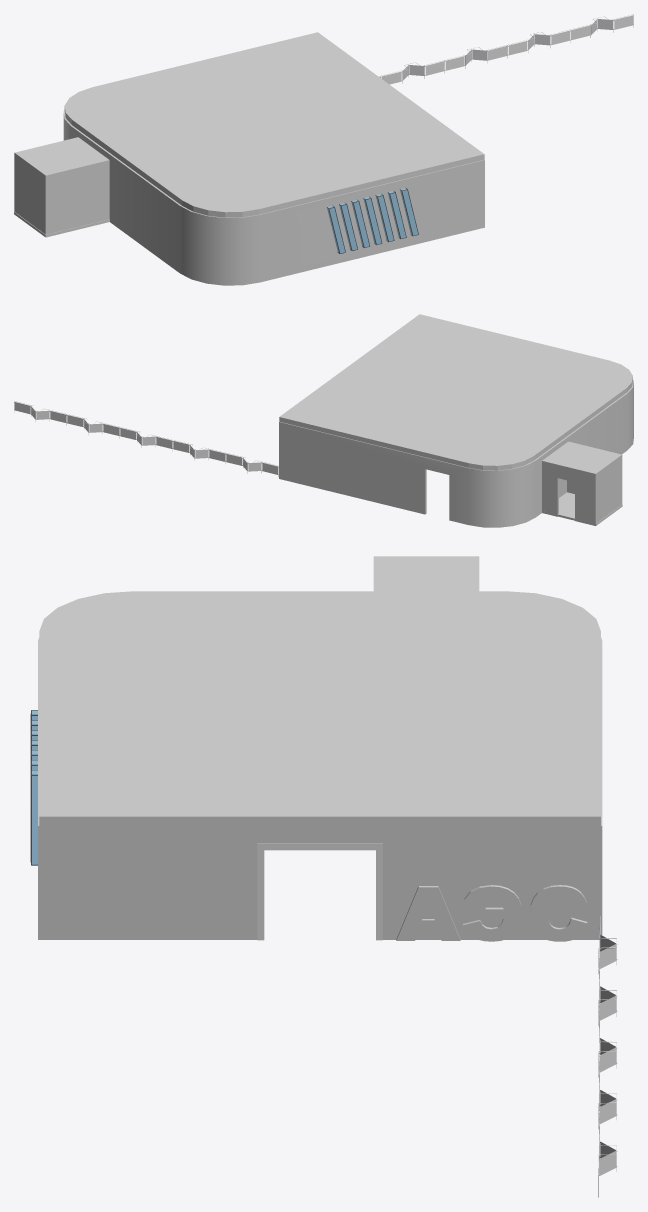
File: Building.fbx
3 views of the same model, one above another, from view 1: azimuth 30°, elevation 25°; view 2: azimuth 150°, elevation 25°; view 3: azimuth 270°, elevation 25° (orthographic). The views are drawn at different scales.
Visible parts, largest first — view 1: Ceiling, Wall, Пристройка, BagaPie_Handrail, Baga_Window_Bool3303603, Крыша пристройки, Baga_Window5623751; view 2: Ceiling, Wall, Пристройка, BagaPie_Handrail, Крыша пристройки, Пол пристройки; view 3: Ceiling, Wall, Text, Крыша пристройки, BagaPie_Handrail, Jamb, Baga_Window_Bool3303603.
Boxes of the visible parts, bbox=[...] form: Ceiling: bbox=[64, 32, 484, 217]; Wall: bbox=[63, 110, 484, 285]; Пристройка: bbox=[14, 155, 109, 237]; BagaPie_Handrail: bbox=[378, 14, 633, 84]; Baga_Window_Bool3303603: bbox=[327, 188, 417, 253]; Крыша пристройки: bbox=[14, 137, 109, 177]; Baga_Window5623751: bbox=[327, 187, 418, 253]; Ceiling: bbox=[279, 314, 632, 470]; Wall: bbox=[279, 379, 633, 527]; Пристройка: bbox=[542, 457, 622, 525]; BagaPie_Handrail: bbox=[14, 401, 278, 476]; Крыша пристройки: bbox=[542, 441, 622, 475]; Пол пристройки: bbox=[542, 492, 622, 525]; Ceiling: bbox=[39, 591, 600, 825]; Wall: bbox=[38, 638, 602, 939]; Text: bbox=[396, 885, 587, 941]; Крыша пристройки: bbox=[373, 556, 479, 591]; BagaPie_Handrail: bbox=[598, 916, 617, 1197]; Jamb: bbox=[257, 843, 382, 940]; Baga_Window_Bool3303603: bbox=[32, 710, 37, 864].
Size of the model in its own units: 4564 by 488 by 2098.
